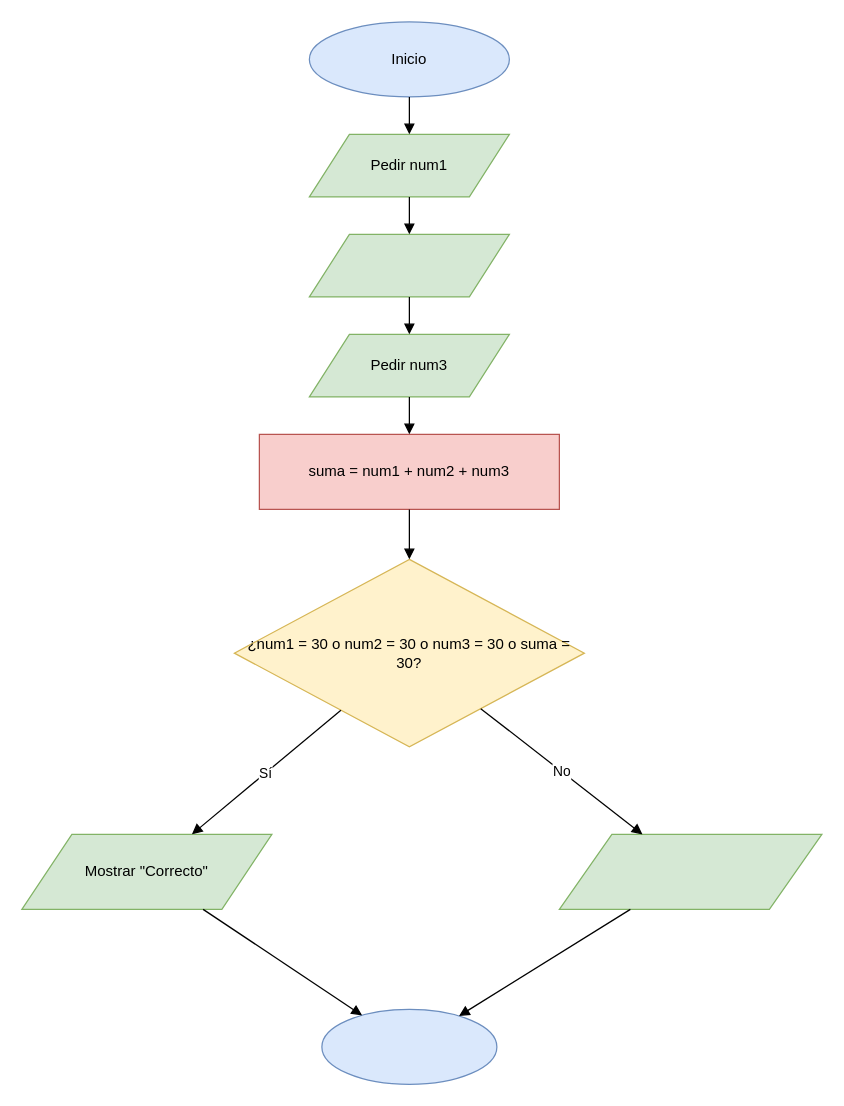
Image size: 844x1106. Some labels were removed from this diagram. The shapes that lost their labels are listed below. From the top down, each one's box as (x1, y1, x2, y2) in pixels, then its label:
(308, 233, 509, 297): Pedir num2
(558, 833, 822, 909): Mostrar "Incorrecto"
(321, 1008, 497, 1084): Fin
